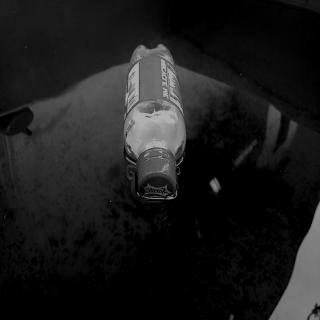bottle: (119, 41, 188, 202)
